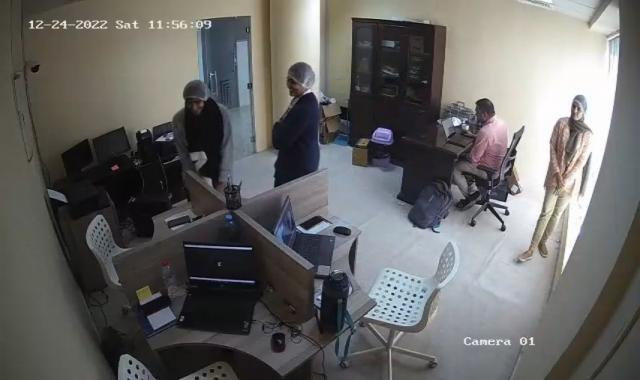hairnet: (284, 61, 316, 101), (182, 80, 208, 118), (568, 92, 588, 122)
no_hairnet: (474, 98, 494, 124)
